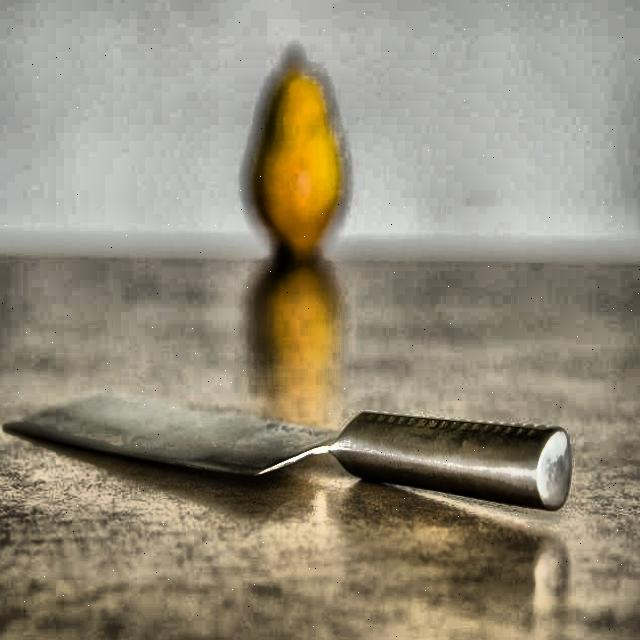knife: (4, 392, 579, 516)
